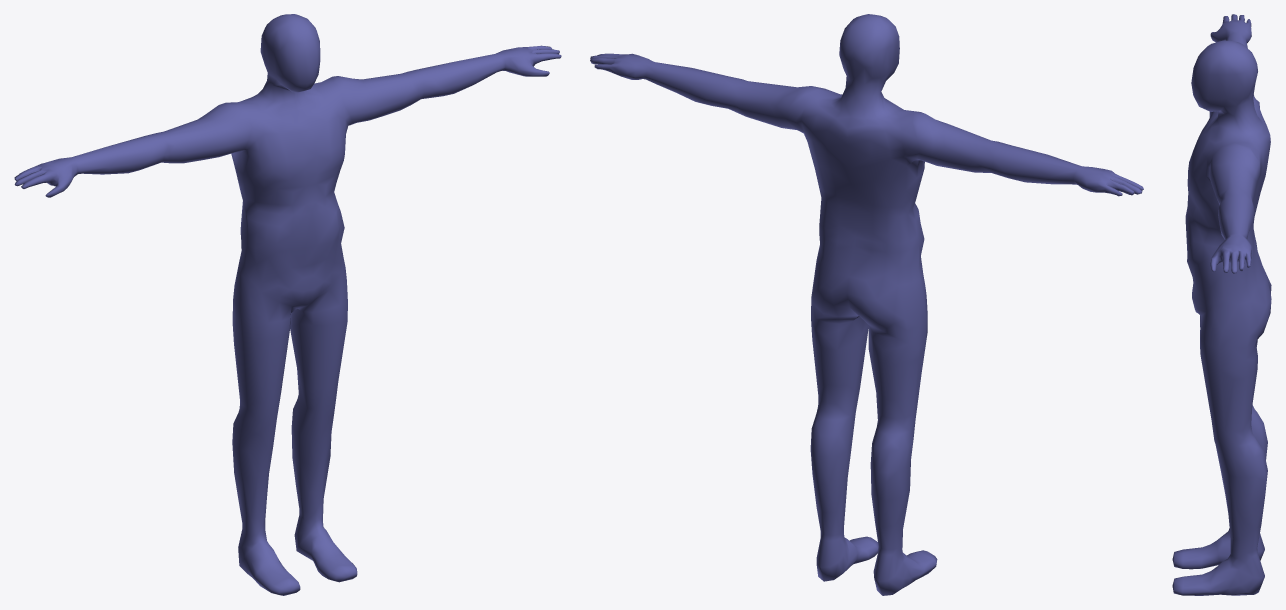
File: BlueCharacter.fbx
3 views of the same model, side by side, from view 1: azimuth 30°, elevation 25°; view 2: azimuth 150°, elevation 25°; view 3: azimuth 270°, elevation 25° (orthographic). The views are drawn at different scales.
Visible parts, largest first — view 1: Humanoid1:Mesh; view 2: Humanoid1:Mesh; view 3: Humanoid1:Mesh.
Part boxes in pixels (x1=…): Humanoid1:Mesh: x1=14, y1=14, x2=561, y2=595; Humanoid1:Mesh: x1=590, y1=14, x2=1143, y2=595; Humanoid1:Mesh: x1=1172, y1=14, x2=1271, y2=595.
Size of the model in its own units: 180 by 175 by 29.29.
